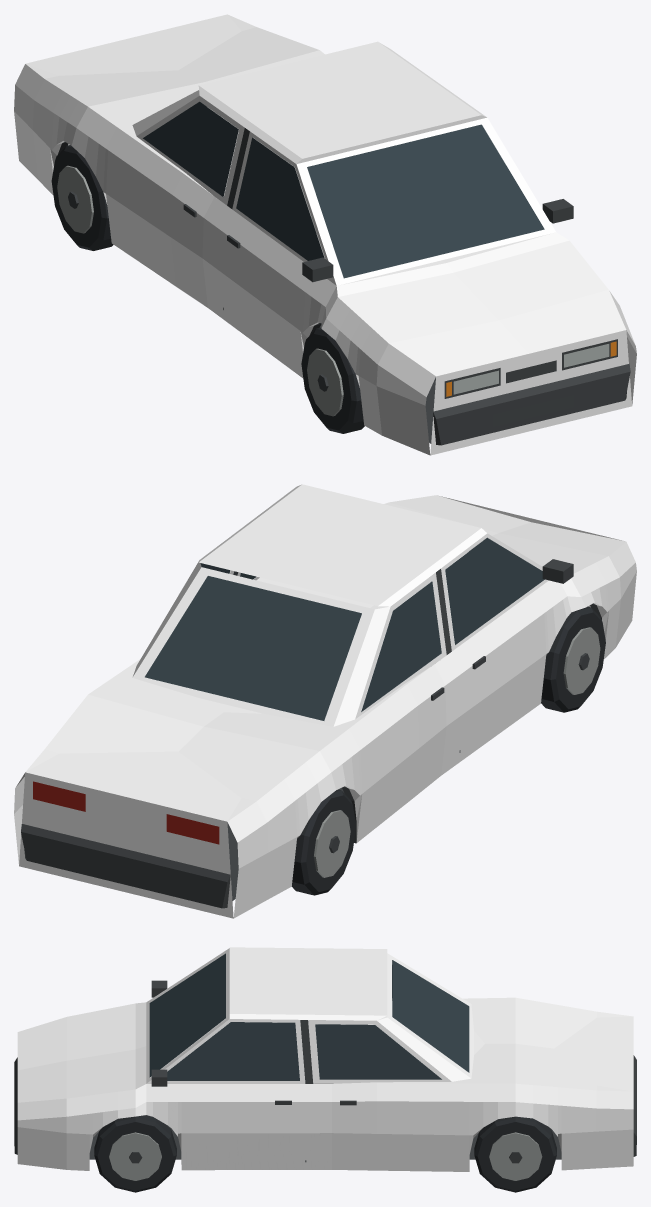
The model's file is vallon_sillage.glb.
3 views of the same model, one above another, from view 1: azimuth 30°, elevation 25°; view 2: azimuth 150°, elevation 25°; view 3: azimuth 270°, elevation 25° (orthographic). The views are drawn at different scales.
Parts seen in each view (by area): view 1: vallon_sillage; view 2: vallon_sillage; view 3: vallon_sillage.
Part boxes in pixels (bbox=[...]): vallon_sillage: bbox=[14, 14, 636, 455]; vallon_sillage: bbox=[14, 484, 636, 918]; vallon_sillage: bbox=[14, 947, 636, 1192].
Size of the model in its own units: 1.79 by 1.41 by 4.8.
8 materials, 1 textured.
